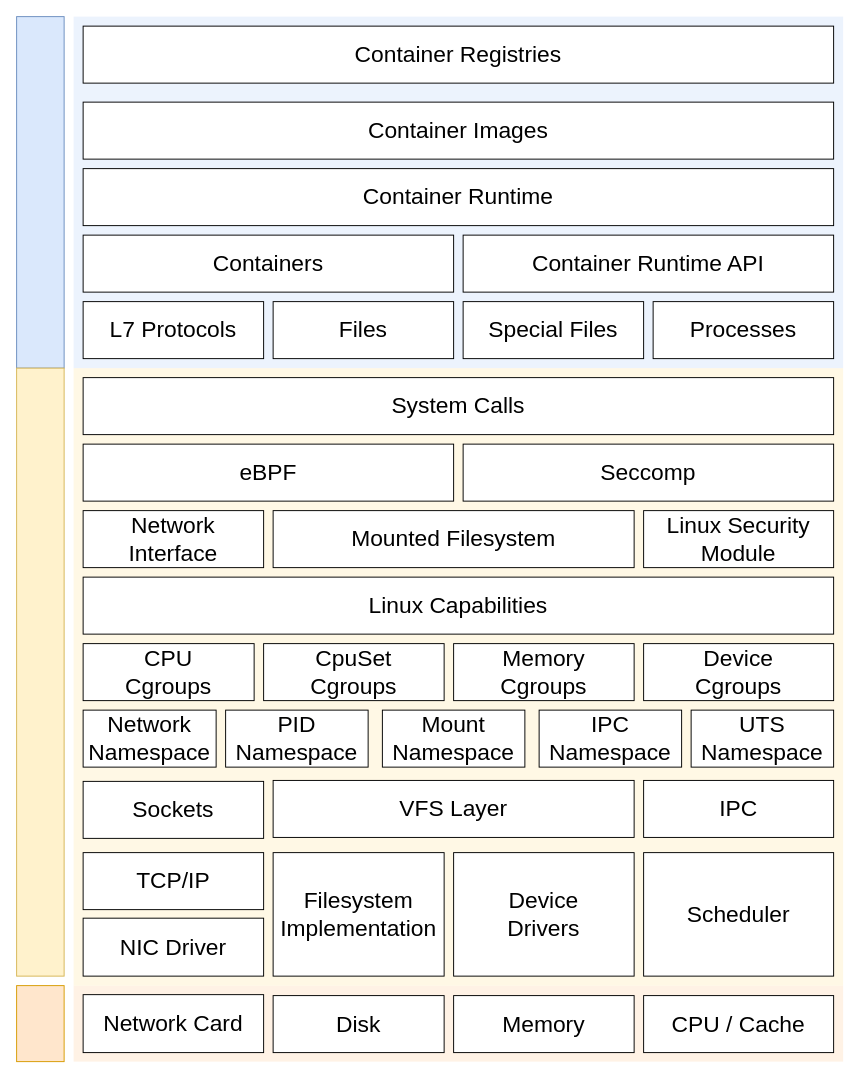
Image size: 860x1078. Some labels were removed from this diagram. Each missing label, with the box of its shape:
HW: (16, 985, 64, 1062)
Kernel Memory: (16, 367, 64, 976)
User Memory: (16, 16, 64, 368)
